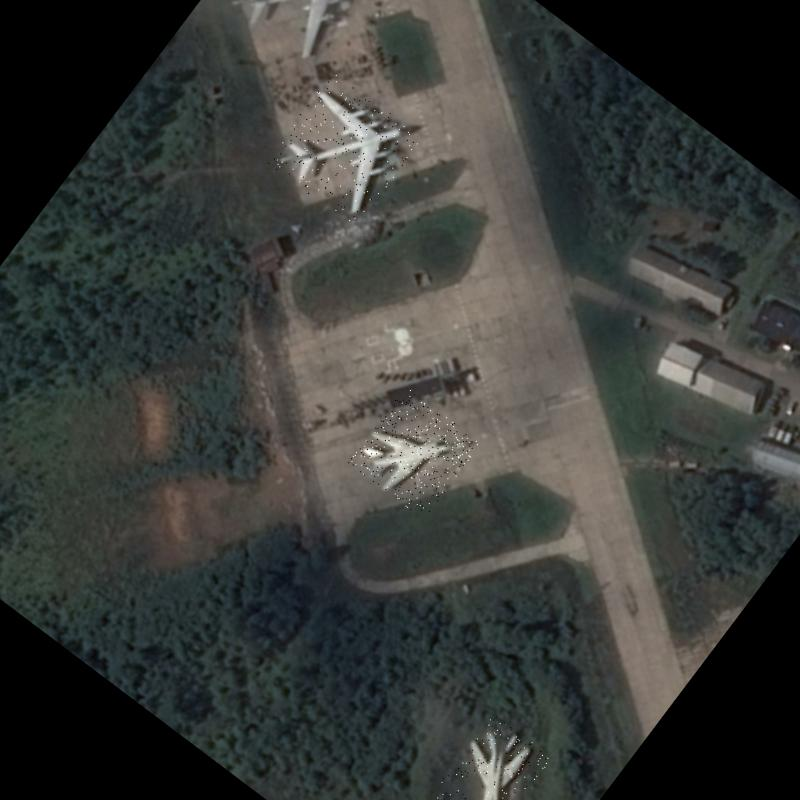A12: (347, 386, 481, 520), (430, 712, 552, 800)
A17: (264, 70, 424, 230), (219, 0, 377, 73)
